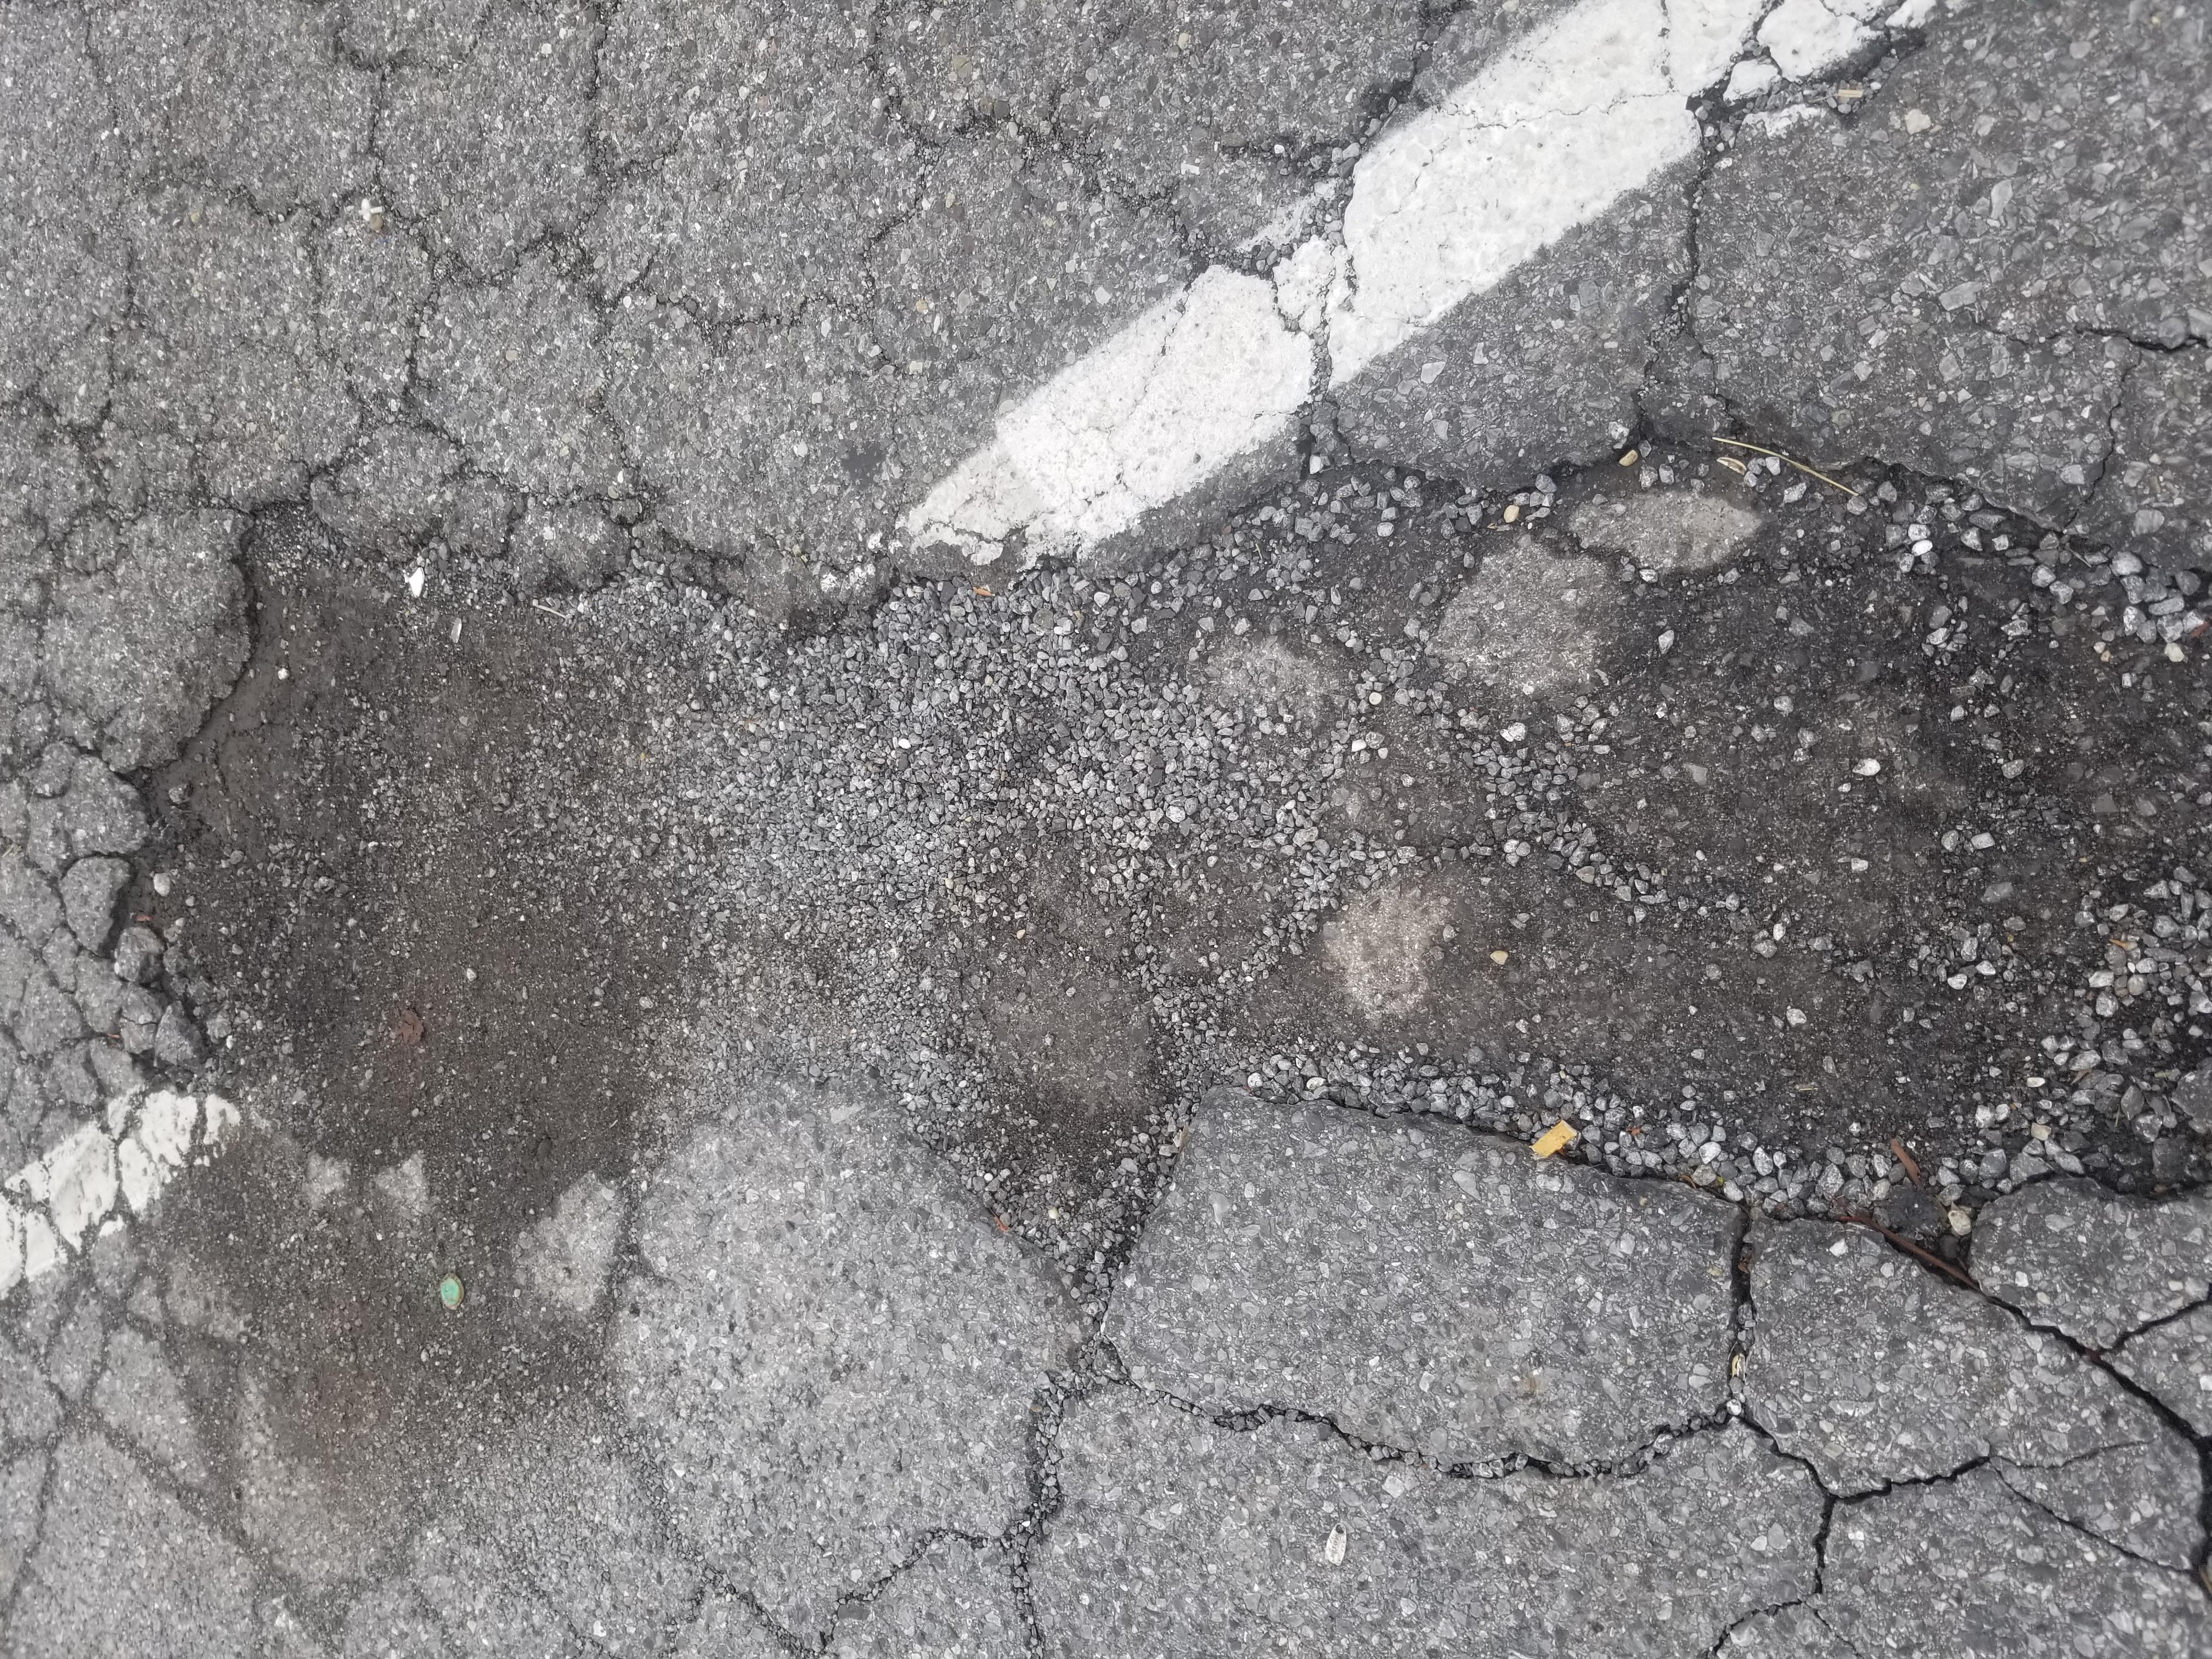alligator-crack: (23, 186, 606, 1657), (1735, 0, 2212, 1626), (0, 0, 1919, 132)
pothole: (637, 166, 1771, 1659)
